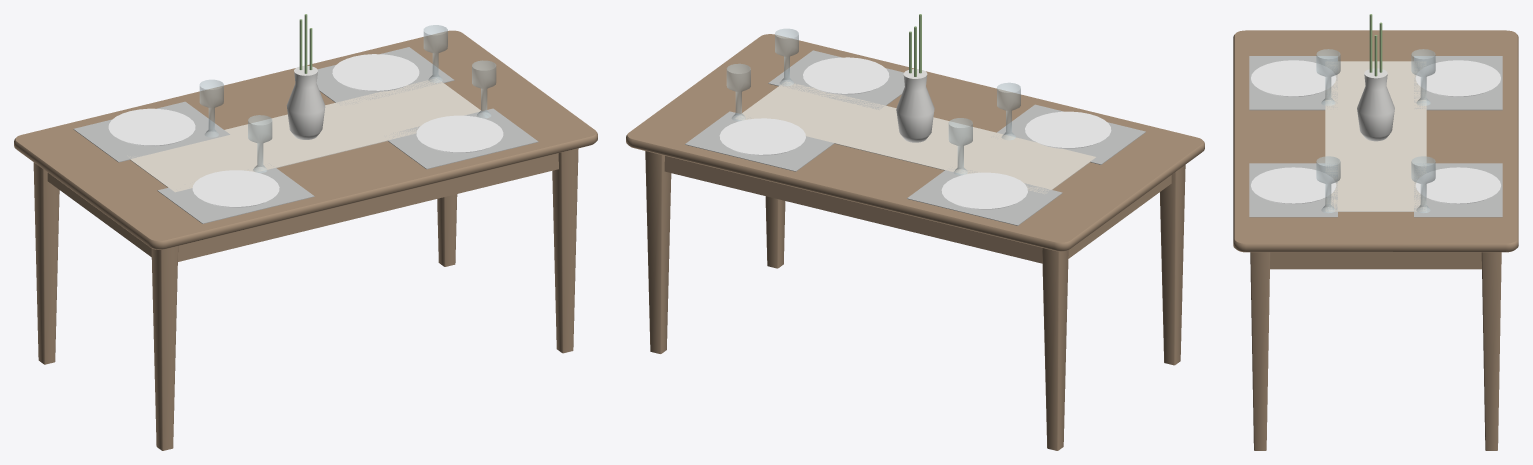
3 renders of one model, left to right at view 1: azimuth 30°, elevation 25°; view 2: azimuth 150°, elevation 25°; view 3: azimuth 270°, elevation 25°, orthographic.
Visible parts, largest first — view 1: Bàn ăn Dài bàn=1600; Rộng bàn=900; 6 ghế; view 2: Bàn ăn Dài bàn=1600; Rộng bàn=900; 6 ghế; view 3: Bàn ăn Dài bàn=1600; Rộng bàn=900; 6 ghế.
Boxes of the visible parts, x1,y1,x2,y2 form: Bàn ăn Dài bàn=1600; Rộng bàn=900; 6 ghế: (14,14,597,450); Bàn ăn Dài bàn=1600; Rộng bàn=900; 6 ghế: (626,14,1204,450); Bàn ăn Dài bàn=1600; Rộng bàn=900; 6 ghế: (1233,14,1518,450).
Size of the model in its own units: 1.6 by 1.17 by 0.9.
